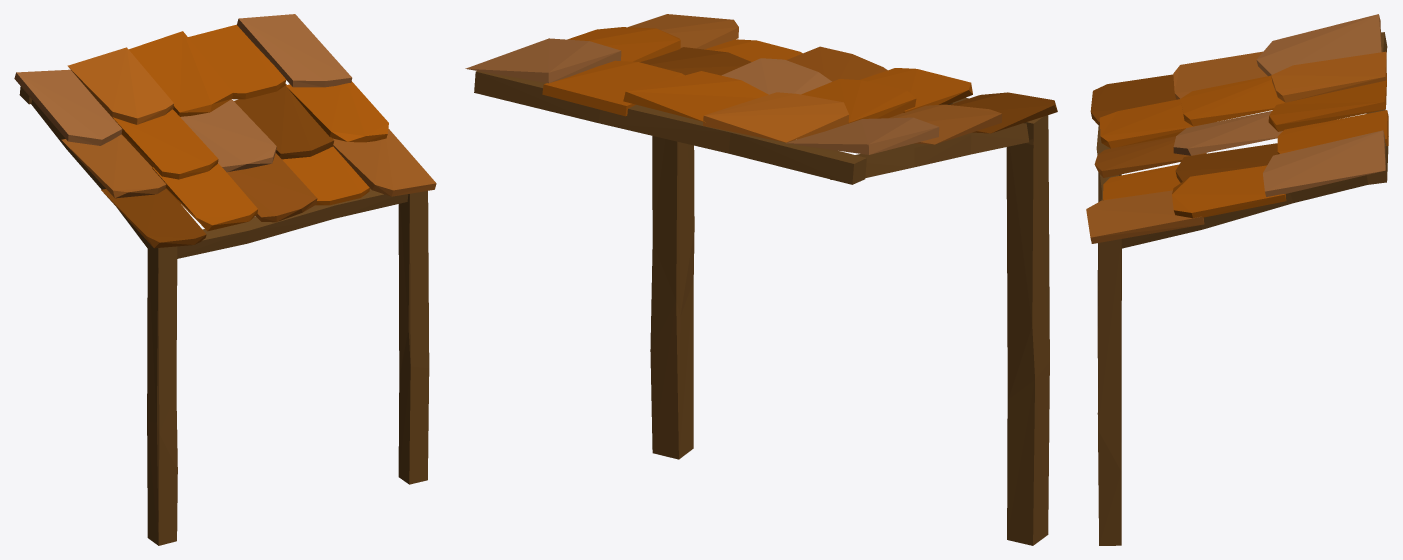
The model's file is DoorRoof_01.fbx.
3 views of the same model, side by side, from view 1: azimuth 30°, elevation 25°; view 2: azimuth 150°, elevation 25°; view 3: azimuth 270°, elevation 25° (orthographic). The views are drawn at different scales.
Parts seen in each view (by area): view 1: DoorRoof_01; view 2: DoorRoof_01; view 3: DoorRoof_01.
Part boxes in pixels (<box>): DoorRoof_01: <box>14,14,436,545</box>; DoorRoof_01: <box>465,14,1057,545</box>; DoorRoof_01: <box>1086,14,1388,545</box>.
Size of the model in its own units: 203 by 258 by 180.
